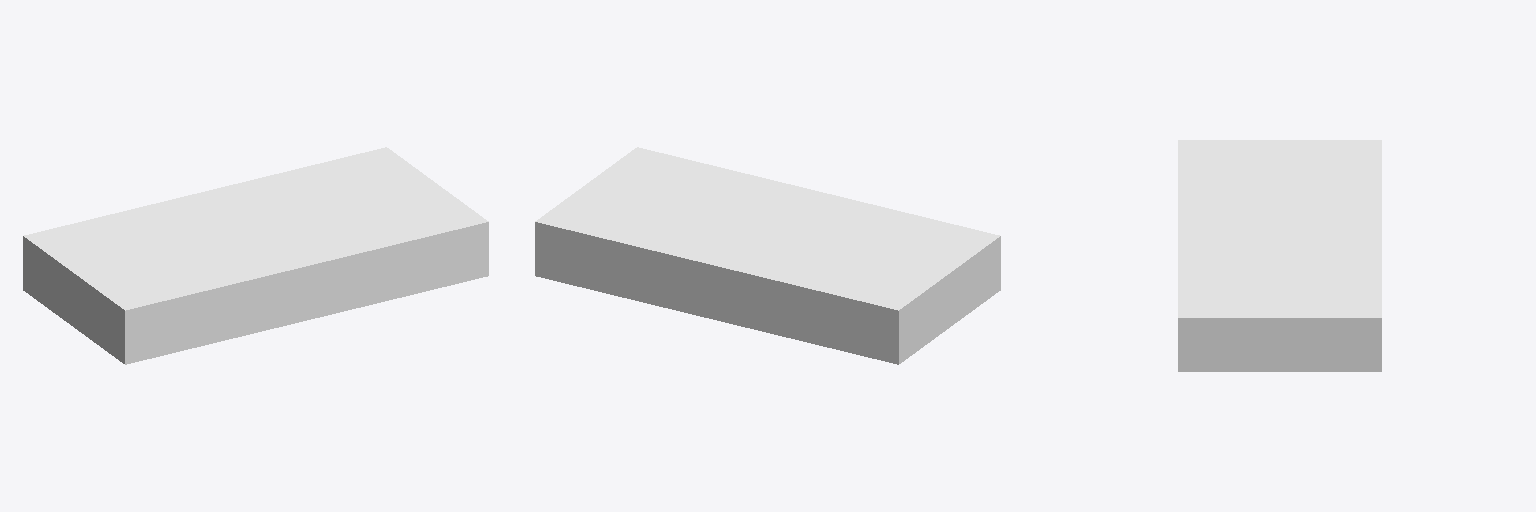
Rendered from platform2.obj.
The picture shows the model from 3 angles: view 1: azimuth 30°, elevation 25°; view 2: azimuth 150°, elevation 25°; view 3: azimuth 270°, elevation 25°; orthographic projection.
Size of the model in its own units: 1789 by 255 by 870.